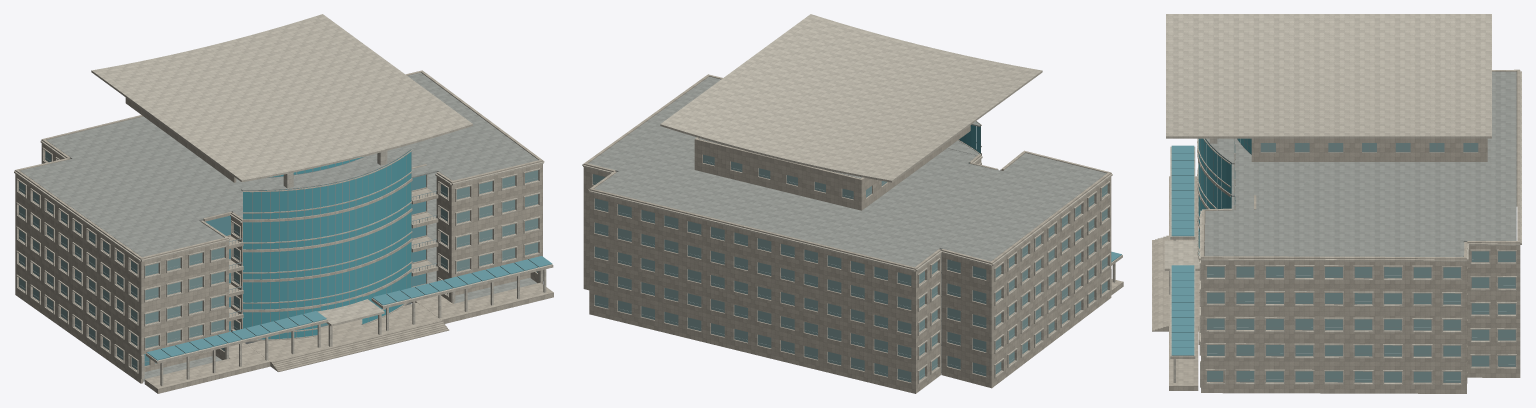
The picture shows the model from 3 angles, left to right: view 1: azimuth 30°, elevation 25°; view 2: azimuth 150°, elevation 25°; view 3: azimuth 270°, elevation 25°; orthographic projection. The views are drawn at different scales.
Parts seen in each view (by area): view 1: library__trim, library__stone, library__roof, library__curtainglass, library__sideglass, library__frame, library__coreglass, library__podium, library__ribbon, library__threshold-main, library__stair-main, library__column (+2 smaller); view 2: library__stone, library__trim, library__roof, library__sideglass, library__frame; view 3: library__trim, library__stone, library__roof, library__sideglass, library__coreglass, library__frame, library__curtainglass, library__stair-main, library__podium, library__ribbon, library__threshold-main.
Boxes of the visible parts, box(x1,y1,x2,y2) form: library__trim: box(14, 14, 553, 373); library__stone: box(15, 70, 542, 383); library__roof: box(20, 72, 538, 381); library__curtainglass: box(243, 150, 411, 339); library__sideglass: box(19, 151, 537, 369); library__frame: box(19, 149, 538, 369); library__coreglass: box(143, 175, 552, 365); library__podium: box(144, 282, 553, 393); library__ribbon: box(243, 150, 412, 341); library__threshold-main: box(247, 302, 440, 366); library__stair-main: box(270, 320, 449, 371); library__column: box(141, 151, 546, 385); library__stone: box(583, 74, 1111, 393); library__trim: box(582, 14, 1122, 384); library__roof: box(588, 76, 1106, 372); library__sideglass: box(593, 154, 1107, 381); library__frame: box(592, 121, 1107, 382); library__trim: box(1164, 14, 1521, 385); library__stone: box(1201, 69, 1520, 393); library__roof: box(1200, 71, 1516, 256); library__sideglass: box(1207, 141, 1515, 382); library__coreglass: box(1171, 145, 1194, 355); library__frame: box(1199, 138, 1515, 382); library__curtainglass: box(1198, 138, 1251, 255); library__stair-main: box(1152, 235, 1168, 331); library__podium: box(1169, 176, 1199, 390); library__ribbon: box(1197, 138, 1230, 292); library__threshold-main: box(1169, 235, 1199, 331).
Size of the model in its own units: 81.59 by 37 by 58.76.
Materials: 11 (6 with a texture image).
